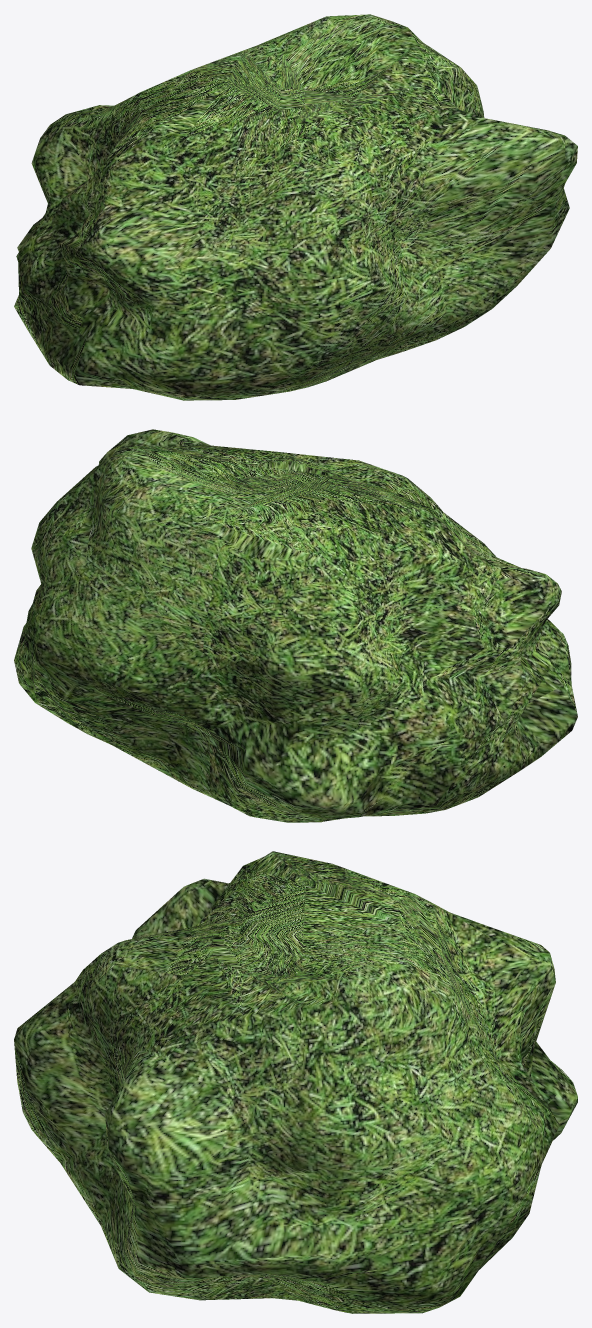
The model's file is bush2.fbx.
3 views of the same model, one above another, from view 1: azimuth 30°, elevation 25°; view 2: azimuth 150°, elevation 25°; view 3: azimuth 270°, elevation 25° (orthographic). The views are drawn at different scales.
Parts seen in each view (by area): view 1: Box007; view 2: Box007; view 3: Box007.
Boxes of the visible parts, box(x1,y1,x2,y2) form: Box007: box(14, 14, 577, 400); Box007: box(14, 429, 577, 822); Box007: box(14, 851, 577, 1313).
Bounding box in the file's own units: 139 × 79.74 × 111.
1 material, 1 textured.
